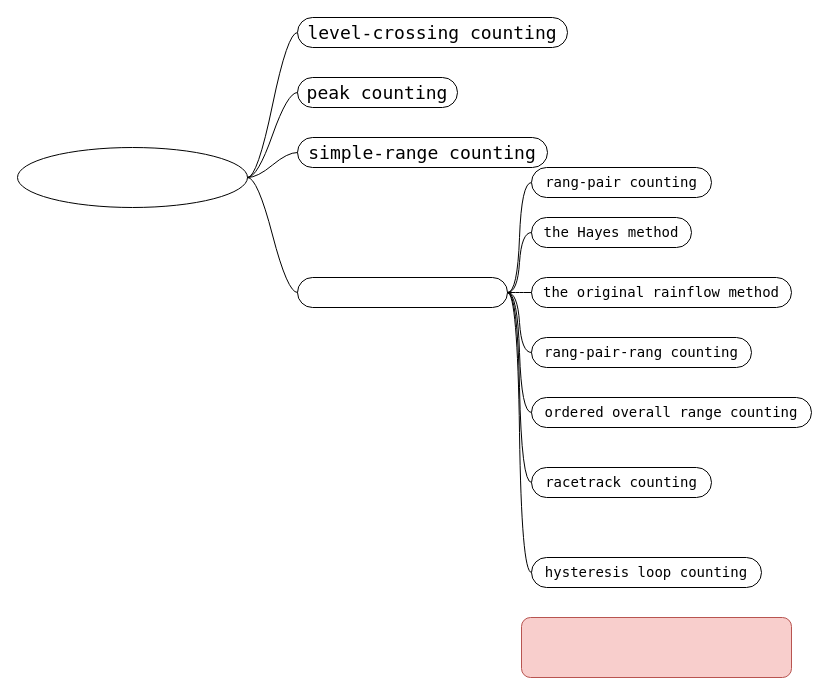
The diagram is 829 pixels wide and 695 high, and some of its shapes have lost their labels. Each missing label, with the centre of its shape:
cycle counting: point 132,177
rainflow counting: point 402,292
如果载荷序列以最大的峰值（或最小的谷值）开始，且以此结束，那么这些方法的计数结果是相同的。: point 656,647
